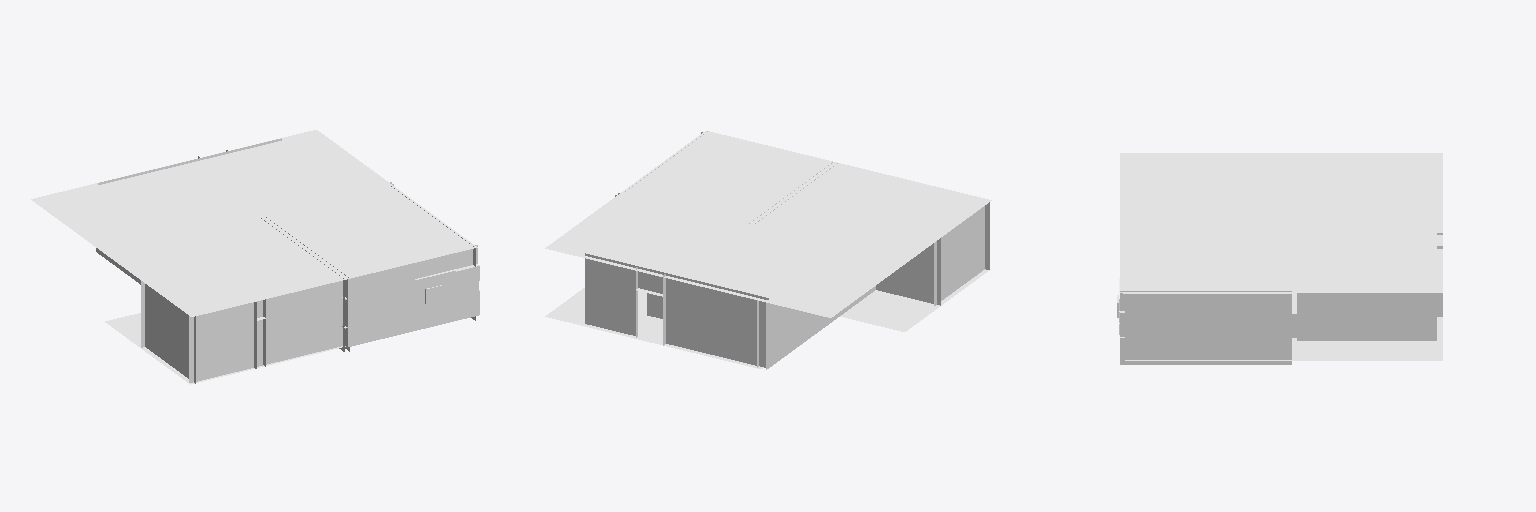
File: HC_cont1_035.obj
3 views of the same model, side by side, from view 1: azimuth 30°, elevation 25°; view 2: azimuth 150°, elevation 25°; view 3: azimuth 270°, elevation 25° (orthographic).
Visible parts, largest first — view 1: room035; view 2: room035; view 3: room035.
Part boxes in pixels (x1,y1,x2,y2): room035: (31,130,479,384); room035: (545,131,991,369); room035: (1117,153,1442,364).
Size of the model in its own units: 19.84 by 5.35 by 19.36.